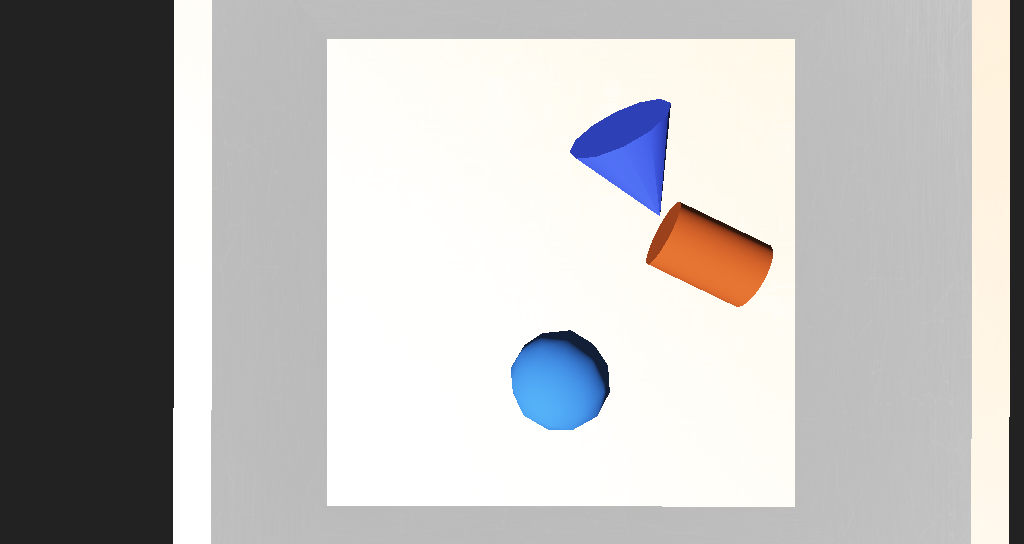cone: (559, 234, 640, 282)
cylinder: (505, 184, 600, 265)
sphere: (475, 291, 536, 339)
